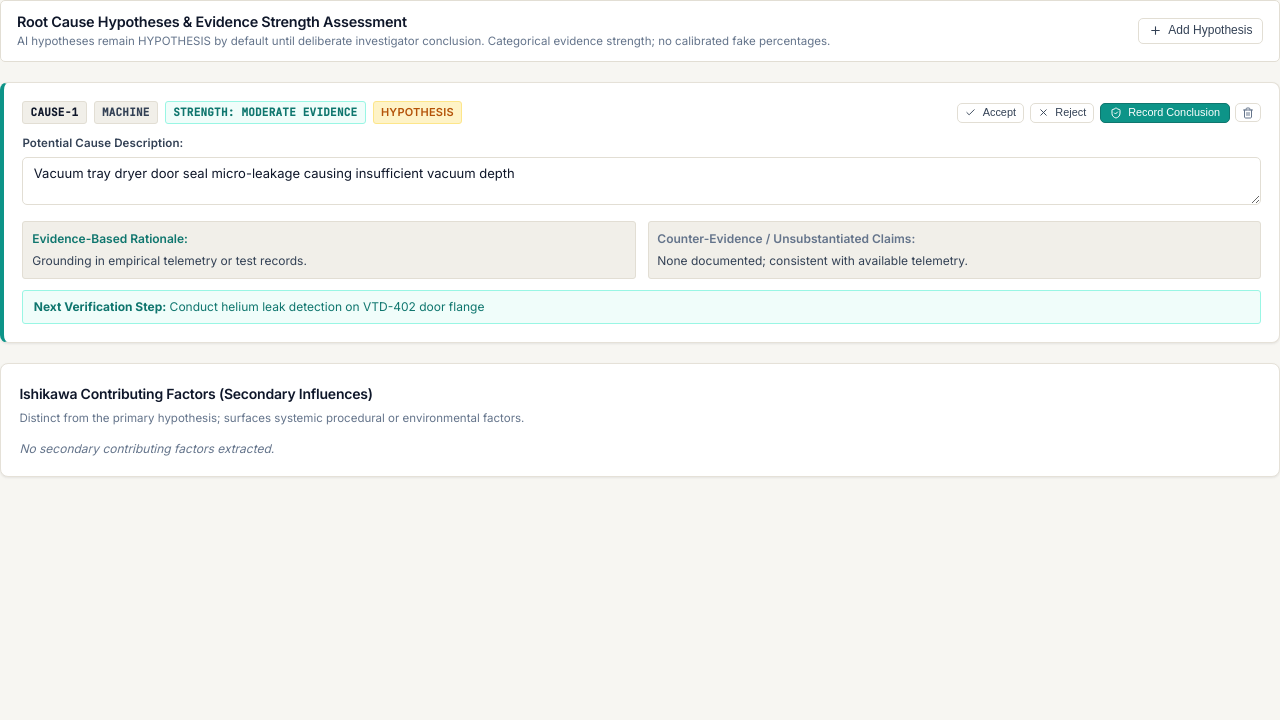
Test: TraceRoot Frontend RTL Verification Pass › C9 & E6: Potential Causes renders categorical strength (no fake %) and records deliberate conclusion
Expected: the text "Strength: Moderate Evidence" is shown, [165, 101, 366, 124]
Expected: the text "HYPOTHESIS" is shown, [373, 101, 462, 124]
Click Record Conclusion
Click the button "Record Conclusion": click(1165, 113) [1100, 102, 1230, 123]
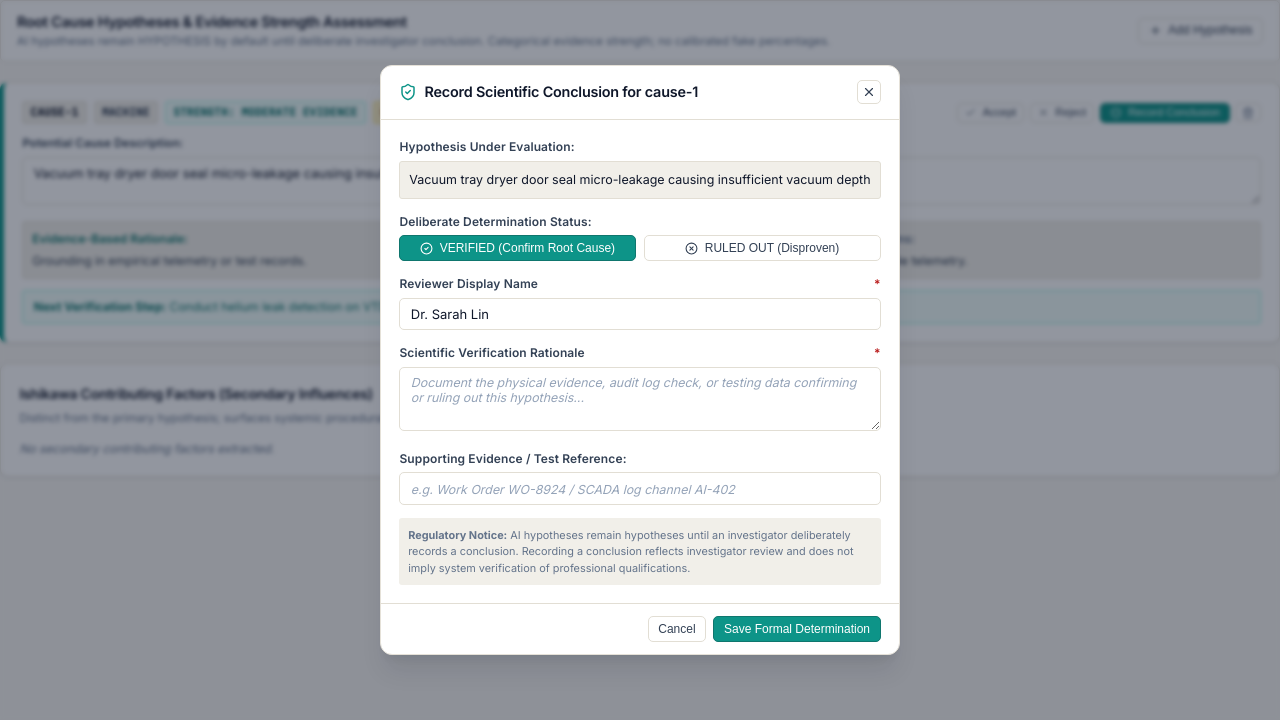
Expected: the heading "Record Scientific Conclusion for cause-1" is shown, [425, 81, 698, 103]
Fill reviewer signature and rationale
Replace the text in the field with placeholder "e.g. Dr. Helena Thorne (Lead QA Reviewer)" with "Dr. Sarah Lin, Lead Investigator": (640, 314) [399, 298, 881, 330]
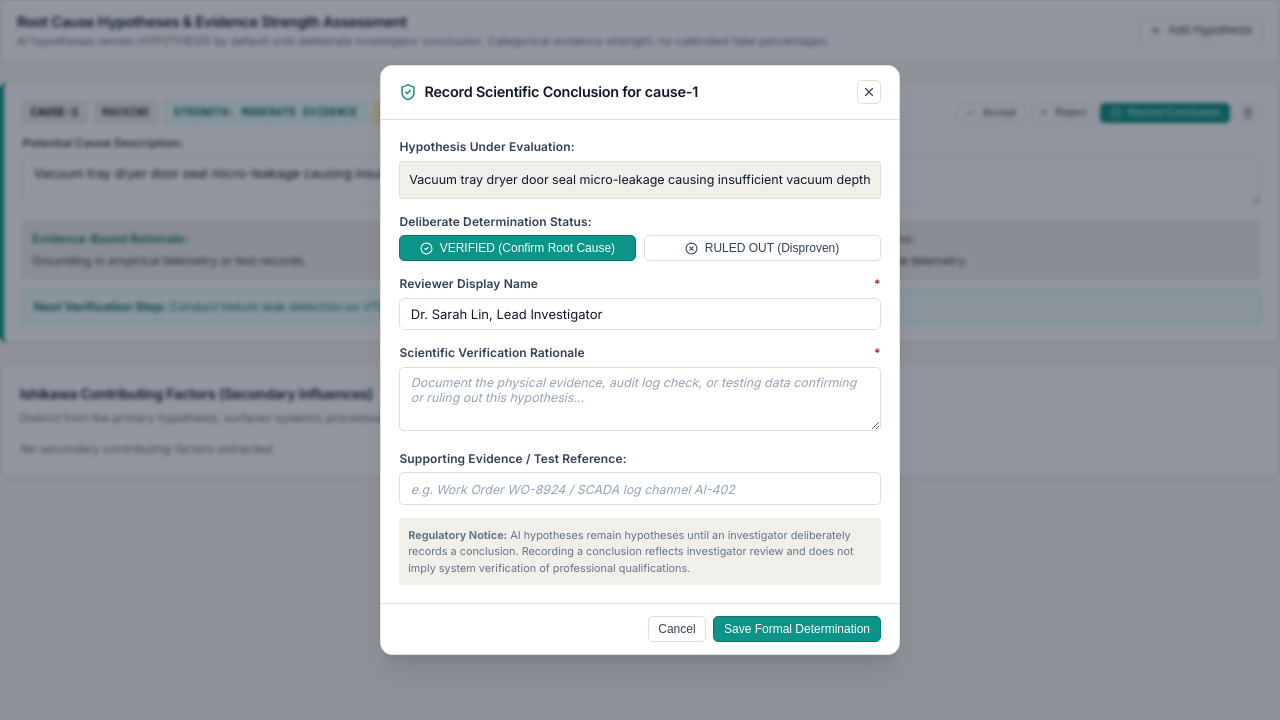
Replace the text in the text box with placeholder "Document the physical evidence" with "Helium leak detector confirmed vacuum seal permeability on flange B.": (640, 399) [399, 367, 881, 431]
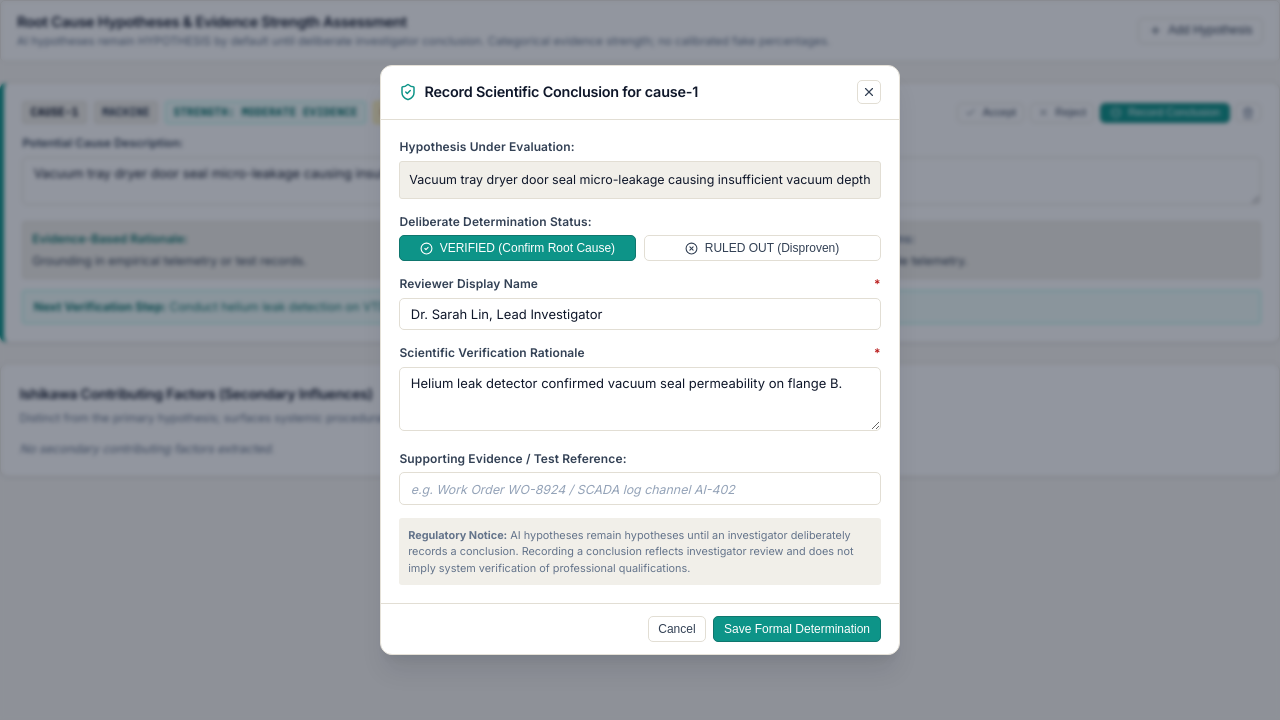
Confirm conclusion
Click the button "Save Formal Determination": click(797, 629) [713, 616, 881, 642]
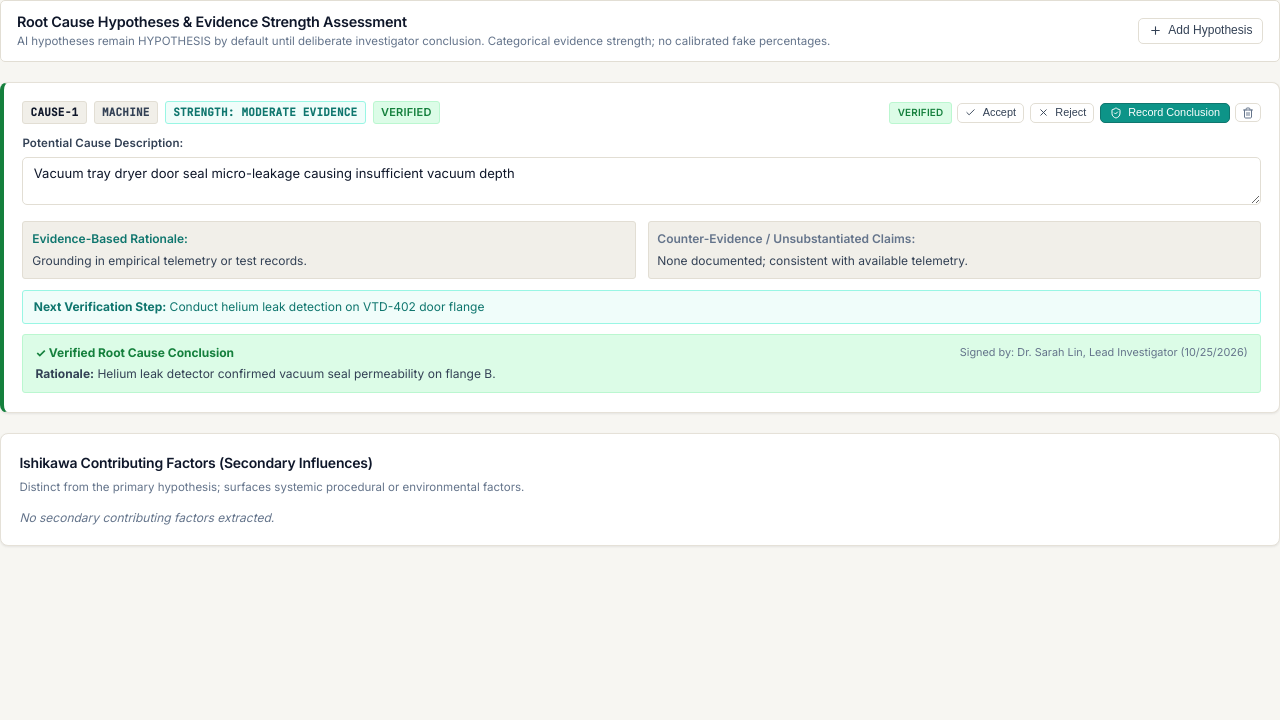
Expected: the text "HYPOTHESIS" next to "Strength: Moderate Evidence" reads "VERIFIED", [381, 105, 432, 119]
